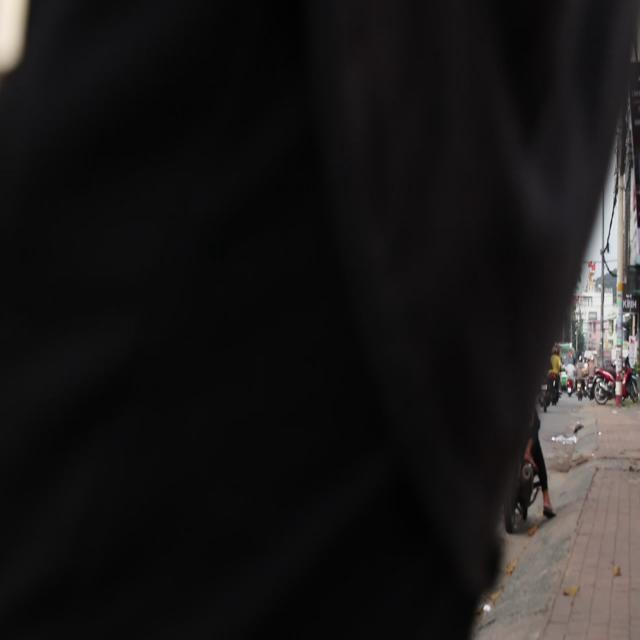motorbike: (540, 371, 562, 413), (576, 358, 596, 400), (592, 370, 614, 404)
